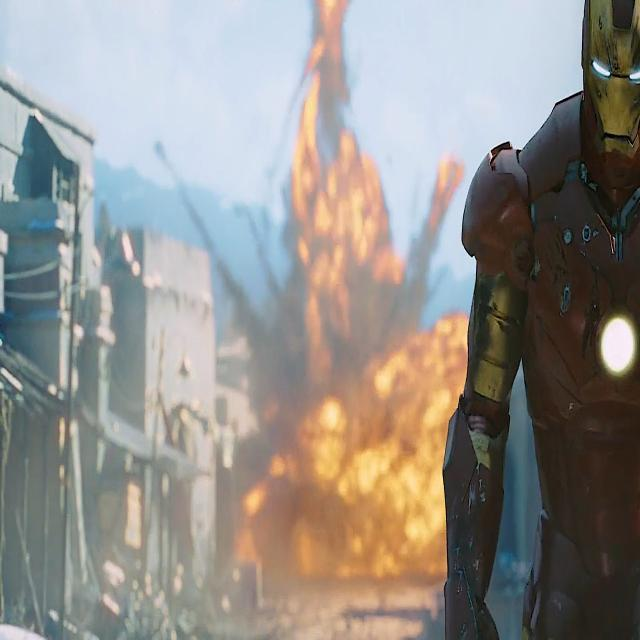fire: (206, 0, 494, 593)
